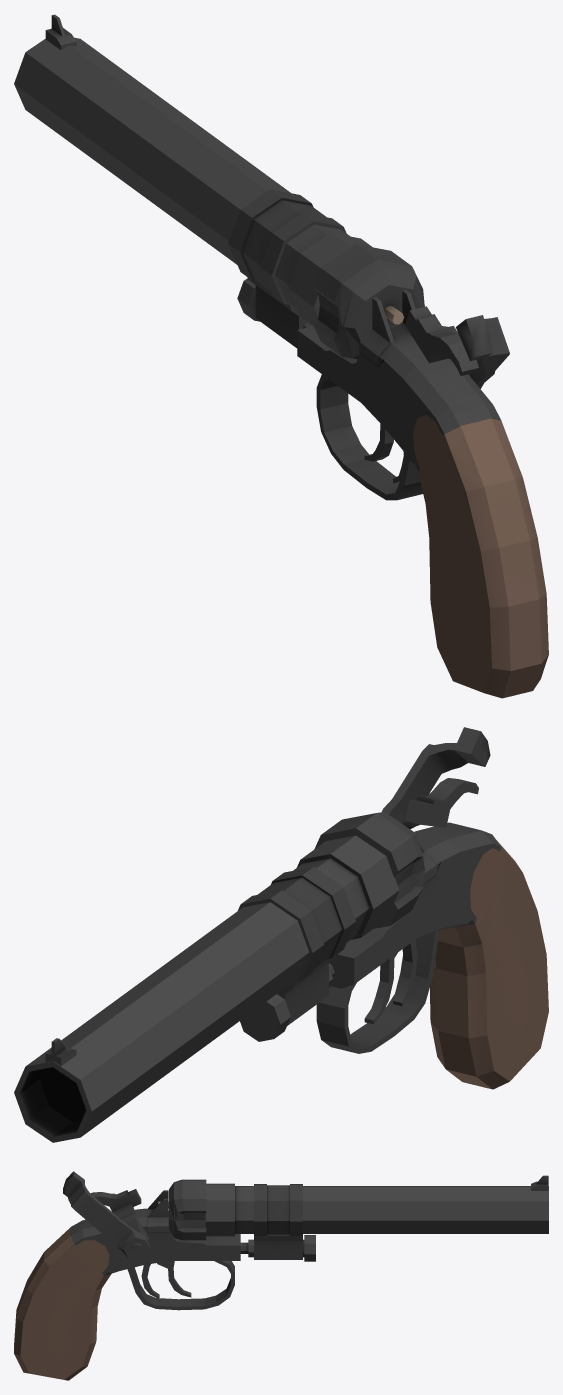
File: pistol.obj
3 views of the same model, one above another, from view 1: azimuth 30°, elevation 25°; view 2: azimuth 150°, elevation 25°; view 3: azimuth 270°, elevation 25° (orthographic). The views are drawn at different scales.
Visible parts, largest first — view 1: Stock_Pistol_Grip, Barrel_Single_Short, Body, Body_Back_Plate_Single, Rotation_Hook, Trigger_Guard, Hammer_Single, Hammer_Double, Rotation_Lock; view 2: Barrel_Single_Short, Stock_Pistol_Grip, Body, Rotation_Hook, Trigger_Guard, Body_Back_Plate_Single, Hammer_Double, Hammer_Single, Rotation_Lock, Rotation_Pin, Trigger_Single, Trigger_Double (+1 smaller); view 3: Barrel_Single_Short, Stock_Pistol_Grip, Body, Hammer_Double, Rotation_Hook, Body_Back_Plate_Single, Trigger_Guard, Rotation_Lock, Hammer_Single, Rotation_Pin, Trigger_Single.
Boxes of the visible parts, box(x1,y1,x2,y2) form: Stock_Pistol_Grip: box(413, 415, 548, 698); Barrel_Single_Short: box(14, 37, 372, 326); Body: box(297, 290, 500, 471); Body_Back_Plate_Single: box(313, 244, 424, 359); Rotation_Hook: box(228, 189, 346, 305); Trigger_Guard: box(316, 374, 422, 500); Hammer_Single: box(405, 306, 478, 376); Hammer_Double: box(456, 315, 509, 388); Rotation_Lock: box(247, 277, 307, 348); Barrel_Single_Short: box(14, 835, 399, 1142); Stock_Pistol_Grip: box(430, 840, 548, 1089); Body: box(329, 822, 501, 988); Rotation_Hook: box(238, 867, 355, 982); Trigger_Guard: box(316, 930, 439, 1053); Body_Back_Plate_Single: box(314, 812, 425, 928); Hammer_Double: box(382, 727, 490, 816); Hammer_Single: box(391, 778, 478, 829); Rotation_Lock: box(277, 955, 336, 1025); Rotation_Pin: box(240, 963, 334, 1041); Trigger_Single: box(364, 952, 397, 1024); Trigger_Double: box(393, 940, 417, 1006); Barrel_Single_Short: box(205, 1183, 548, 1236); Stock_Pistol_Grip: box(14, 1227, 111, 1380); Body: box(70, 1190, 240, 1275); Hammer_Double: box(63, 1171, 149, 1260); Rotation_Hook: box(254, 1184, 302, 1235); Body_Back_Plate_Single: box(158, 1179, 206, 1240); Trigger_Guard: box(127, 1261, 234, 1310); Rotation_Lock: box(254, 1234, 302, 1259); Hammer_Single: box(90, 1189, 148, 1242); Rotation_Pin: box(240, 1235, 315, 1261); Trigger_Single: box(157, 1261, 191, 1297).
Bounding box in the file's own units: 0.2184 × 0.7456 × 1.78.
